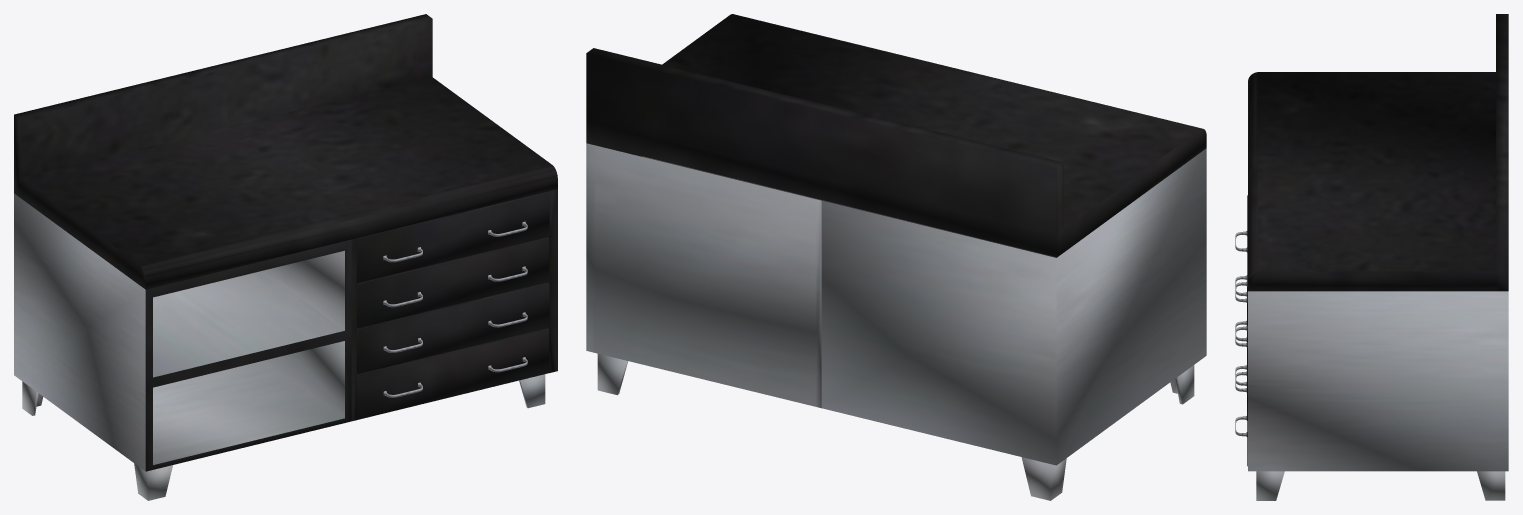
The model's file is WorkBench.obj.
The picture shows the model from 3 angles, left to right: view 1: azimuth 30°, elevation 25°; view 2: azimuth 150°, elevation 25°; view 3: azimuth 270°, elevation 25°; orthographic projection. The views are drawn at different scales.
Visible parts, largest first — view 1: WorkBench.obj; view 2: WorkBench.obj; view 3: WorkBench.obj.
Part boxes in pixels (x1,y1,x2,y2): WorkBench.obj: (14, 14, 557, 500); WorkBench.obj: (586, 14, 1206, 500); WorkBench.obj: (1235, 14, 1508, 500).
Size of the model in its own units: 10.06 by 6.88 by 5.83.
